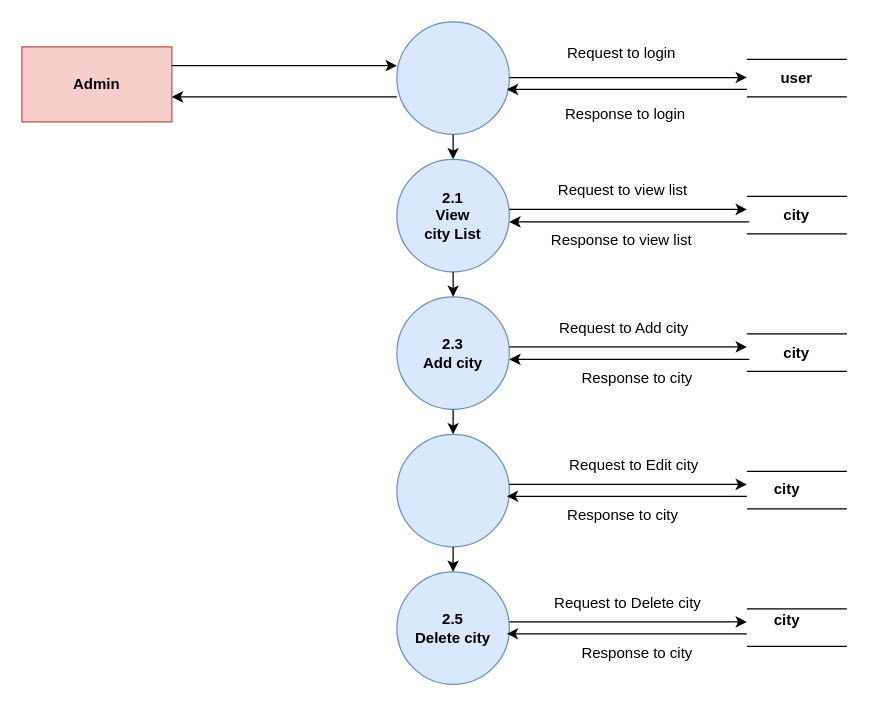
This 894x706 diagram has some shape labels left out. The centre of each missing label's shape, as x and y in pixels:
"2.1 Login" belongs at [452,77].
"2.4 Edit city" belongs at [452,490].
